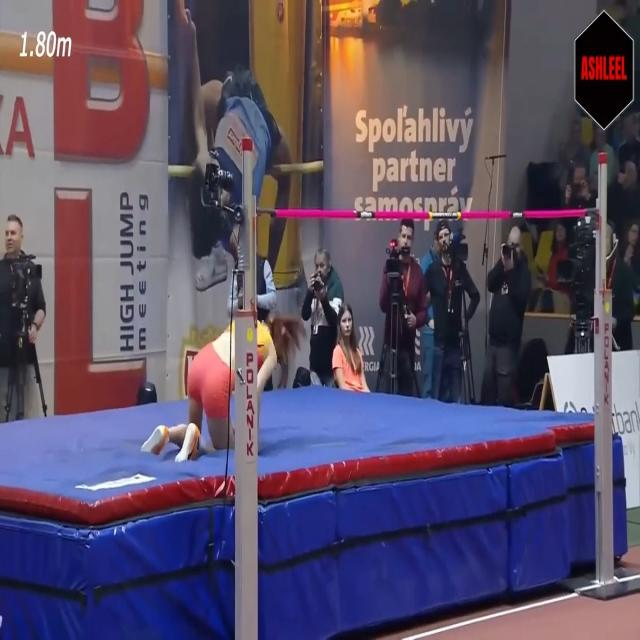land: (143, 313, 300, 463)
